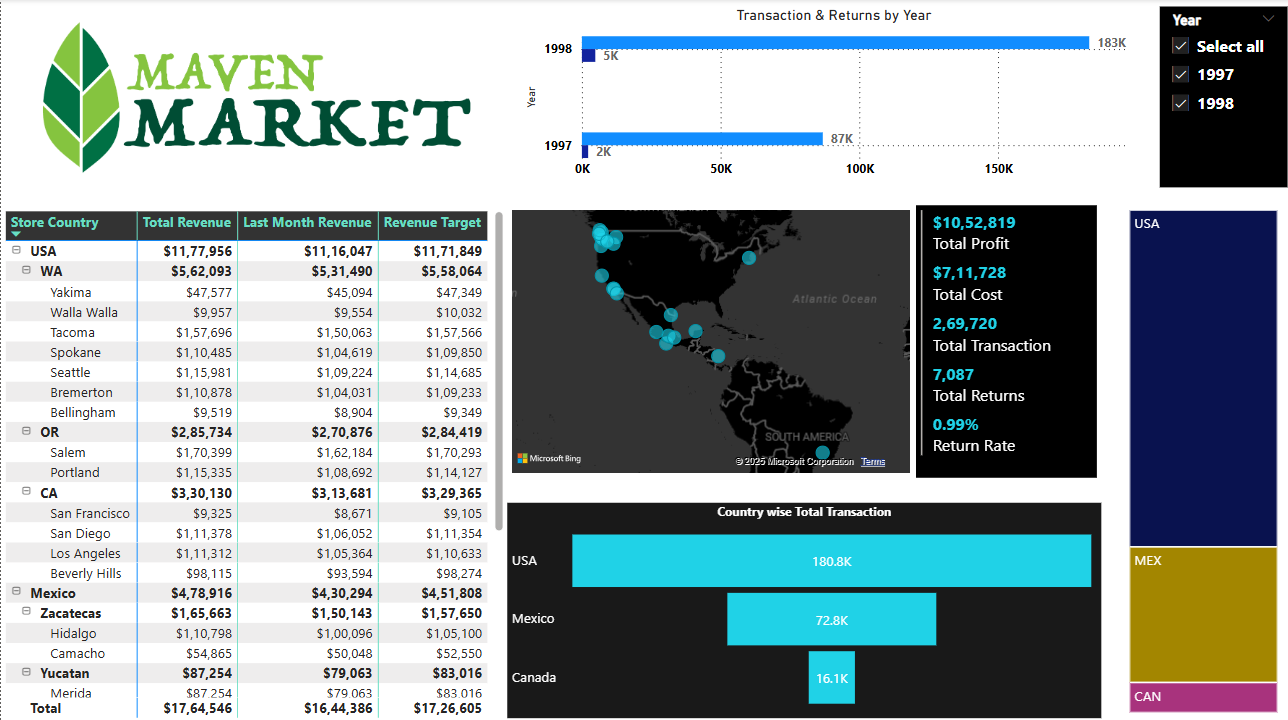

The dashboard page shown, as its layout file describes it:
{"tool":"powerbi","page":{"name":"Country-wise","canvas":[1280,720],"ordinal":1},"visuals":[{"type":"pivotTable","title":"Region-wise Revenue Info","fields":{"Rows":["Stores.store_country","Stores.store_state","Stores.store_city"],"Values":["Transaction_Data.Total Revenue","Transaction_Data.Last Month Revenue","Transaction_Data.Revenue Target"]},"box":[0,206.3,505,513.6],"z":0},{"type":"image","box":[0,7.1,504.3,180],"z":1000},{"type":"clusteredBarChart","title":"Transaction & Returns by Year","fields":{"Category":["Calendar.Year"],"Y":["Transaction_Data.Total Transaction","Return_Data.Total Returns"]},"box":[517.1,7.1,622.9,180],"z":2000},{"type":"slicer","fields":{"Values":["Calendar.Year"]},"box":[1152.9,7.1,127.1,180],"z":3000},{"type":"map","fields":{"Category":["Stores.store_city"]},"box":[504.3,205.7,405.7,271.4],"z":4000},{"type":"multiRowCard","fields":{"Values":["Transaction_Data.Total Profit","Transaction_Data.Total Cost","Transaction_Data.Total Transaction","Return_Data.Total Returns","Return_Data.Return Rate"]},"box":[910,205.7,180,271.4],"z":5000},{"type":"funnel","title":"Country wise Total Transaction","fields":{"Category":["Stores.store_country","Calendar.Year"],"Y":["Transaction_Data.Total Transaction"]},"box":[504.3,501.4,591.4,214.3],"z":6000},{"type":"treemap","fields":{"Values":["Transaction_Data.Total Transaction"],"Group":["Customers.Short Country","Stores.store_state","Stores.store_city"]},"box":[1118.6,205.7,157.1,510],"z":7000}]}

Visuals, with their boxes in screenshot pixels (x1, y1, x2, y2), scaled from the page's 1280x720 canvas onto the 1288x720 screenshot:
"Region-wise Revenue Info" pivotTable: locate(0, 206, 508, 719)
image: locate(0, 7, 507, 187)
"Transaction & Returns by Year" clusteredBarChart: locate(520, 7, 1147, 187)
slicer - Calendar.Year: locate(1160, 7, 1287, 187)
map - Stores.store_city: locate(507, 206, 916, 477)
multiRowCard - Transaction_Data.Total Profit x Transaction_Data.Total Cost: locate(916, 206, 1097, 477)
"Country wise Total Transaction" funnel: locate(507, 501, 1103, 716)
treemap - Transaction_Data.Total Transaction x Customers.Short Country: locate(1126, 206, 1284, 716)
